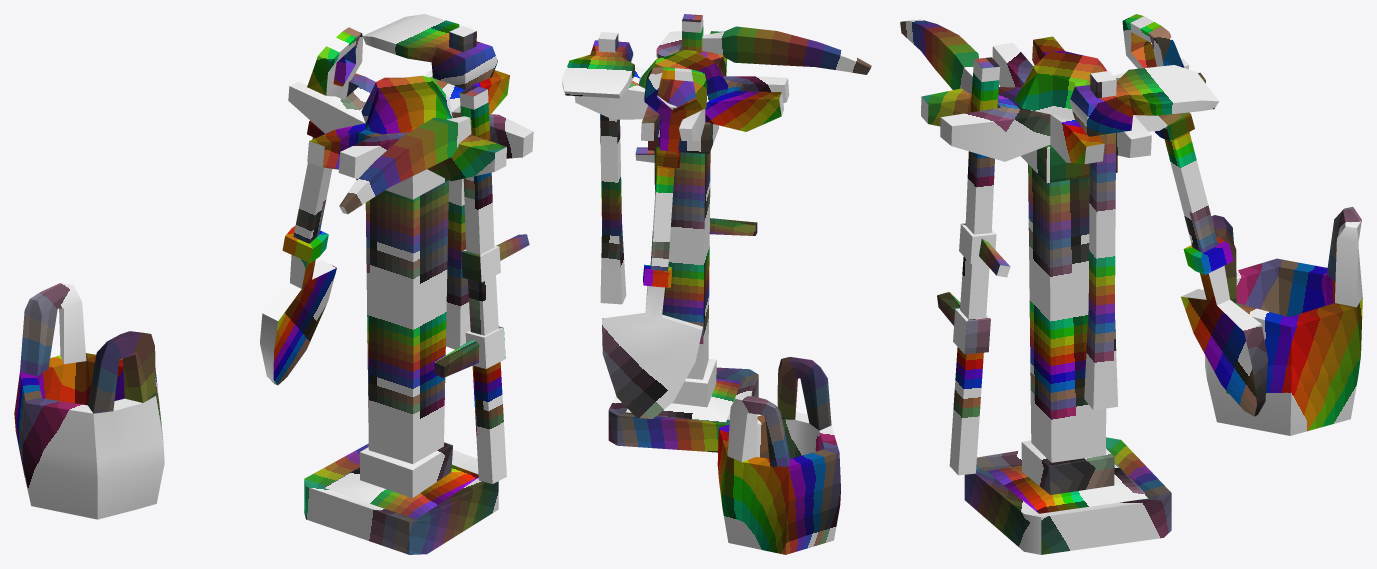
The model's file is C_FarmToolRack.fbx.
The picture shows the model from 3 angles, left to right: view 1: azimuth 30°, elevation 25°; view 2: azimuth 150°, elevation 25°; view 3: azimuth 270°, elevation 25°; orthographic projection. The views are drawn at different scales.
Visible parts, largest first — view 1: C_ToolRack; view 2: C_ToolRack; view 3: C_ToolRack.
Boxes of the visible parts, bbox=[...] form: C_ToolRack: bbox=[14, 14, 533, 554]; C_ToolRack: bbox=[562, 14, 871, 554]; C_ToolRack: bbox=[900, 14, 1362, 554].
Bounding box in the file's own units: 88.41 × 96.49 × 84.52.
